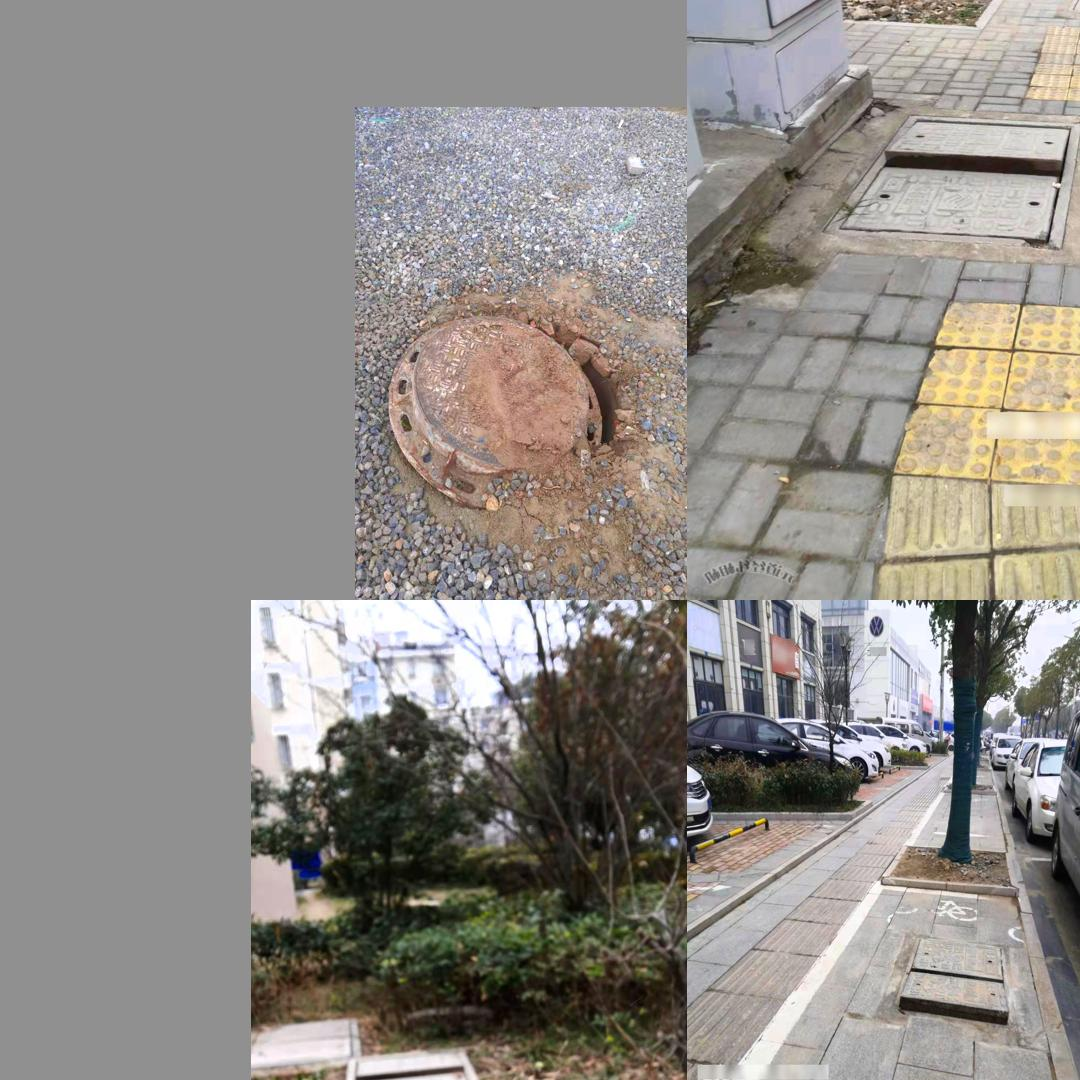good: (251, 1012, 362, 1080), (1066, 0, 1080, 22)
uncovered: (387, 313, 625, 513), (822, 113, 1080, 245), (904, 917, 1015, 1031), (341, 1045, 489, 1080)
